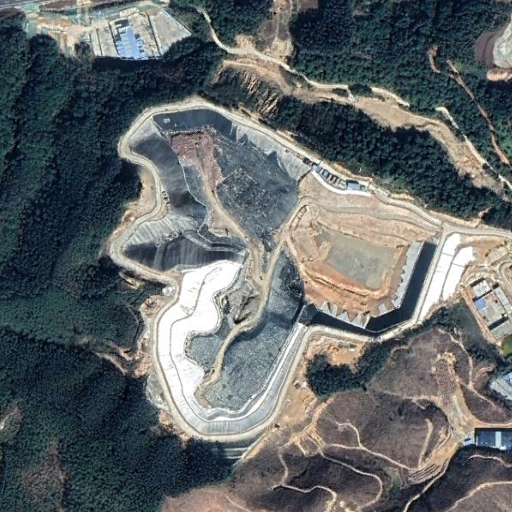lf: (121, 107, 469, 439)
